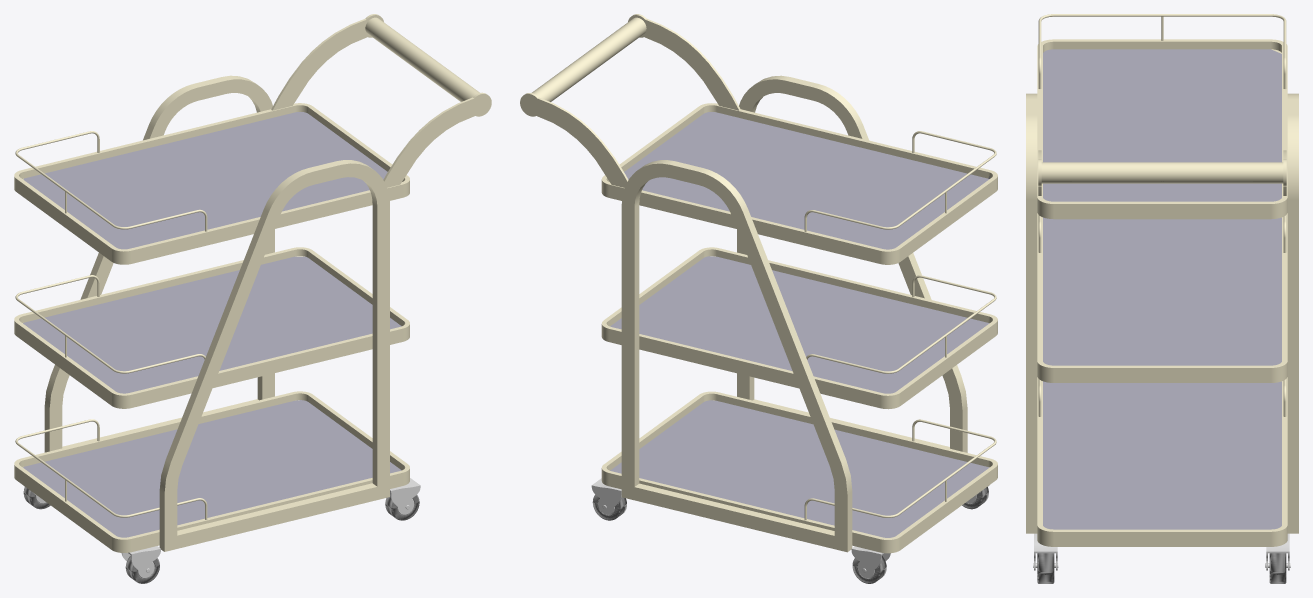
Rendered from 928_serving_cart.glb.
3 views of the same model, side by side, from view 1: azimuth 30°, elevation 25°; view 2: azimuth 150°, elevation 25°; view 3: azimuth 270°, elevation 25° (orthographic). The views are drawn at different scales.
Parts seen in each view (by area): view 1: Body; view 2: Body; view 3: Body.
Part boxes in pixels (x1,y1,x2,y2): Body: [14, 14, 491, 583]; Body: [520, 14, 997, 583]; Body: [1026, 14, 1298, 583].
Bounding box in the file's own units: 0.8811 × 0.9197 × 0.49.
